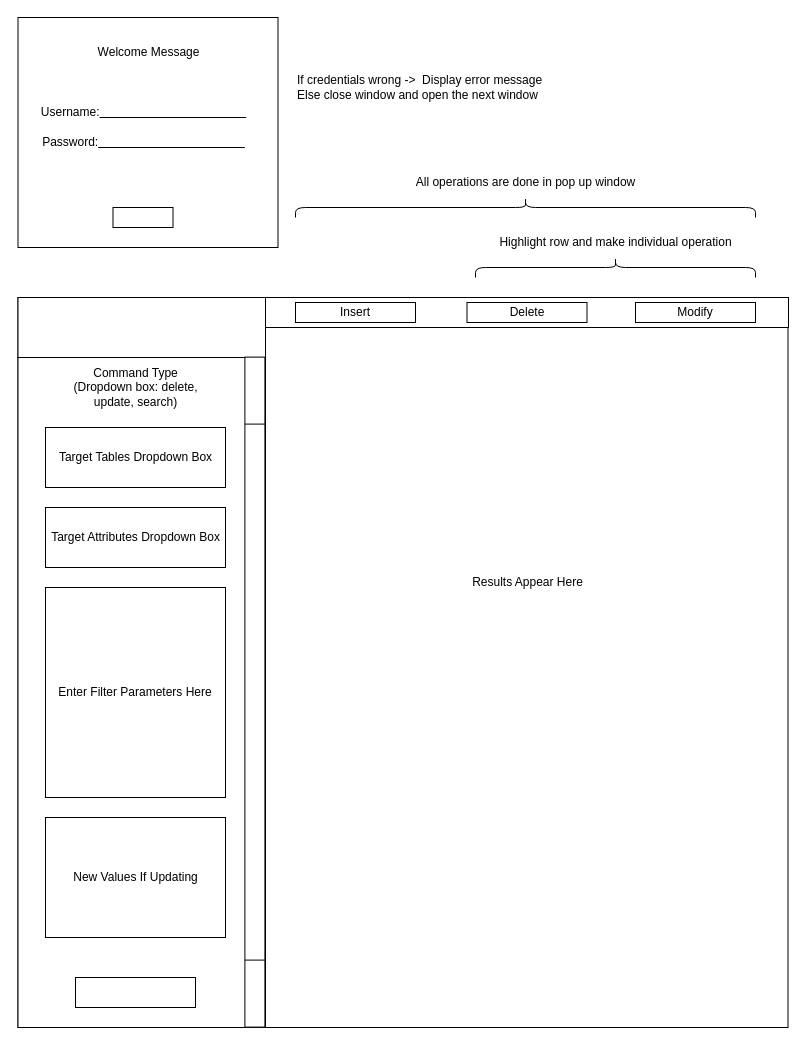
Some shapes in this 806 by 1045 pixel diagram are drawn without their labels. The shapes that lost their labels are listed below. From the top down, each one's box as (x1, y1, x2, y2) in pixels, then its label:
(112, 206, 173, 228): Login
(17, 296, 266, 358): Name Account Type
(74, 976, 196, 1008): Submit Action SUUUIIIIII
